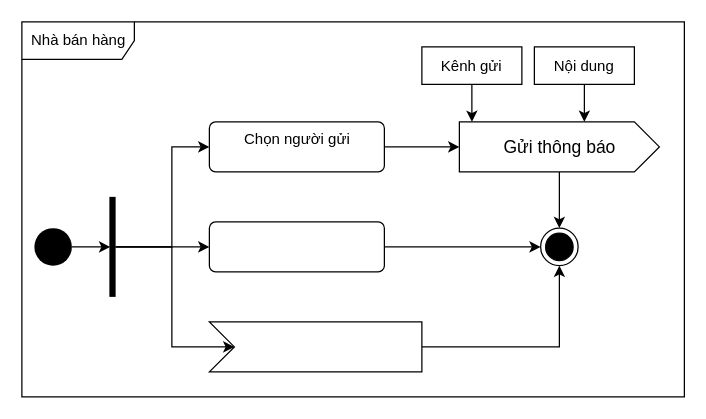
Some shapes in this 706 by 419 pixel diagram are drawn without their labels. Each missing label, with the box of its shape:
Nhập thông tin hộp thư điện tử: (208, 221, 384, 272)
Đánh dấu đã đọc: (208, 321, 422, 372)
